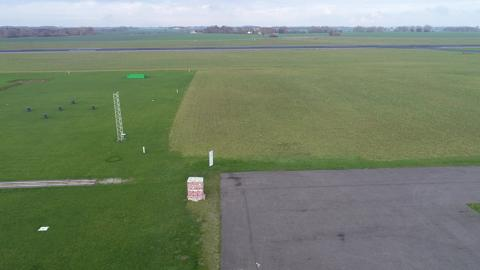RockwoolPallet: (186, 176, 205, 201)
